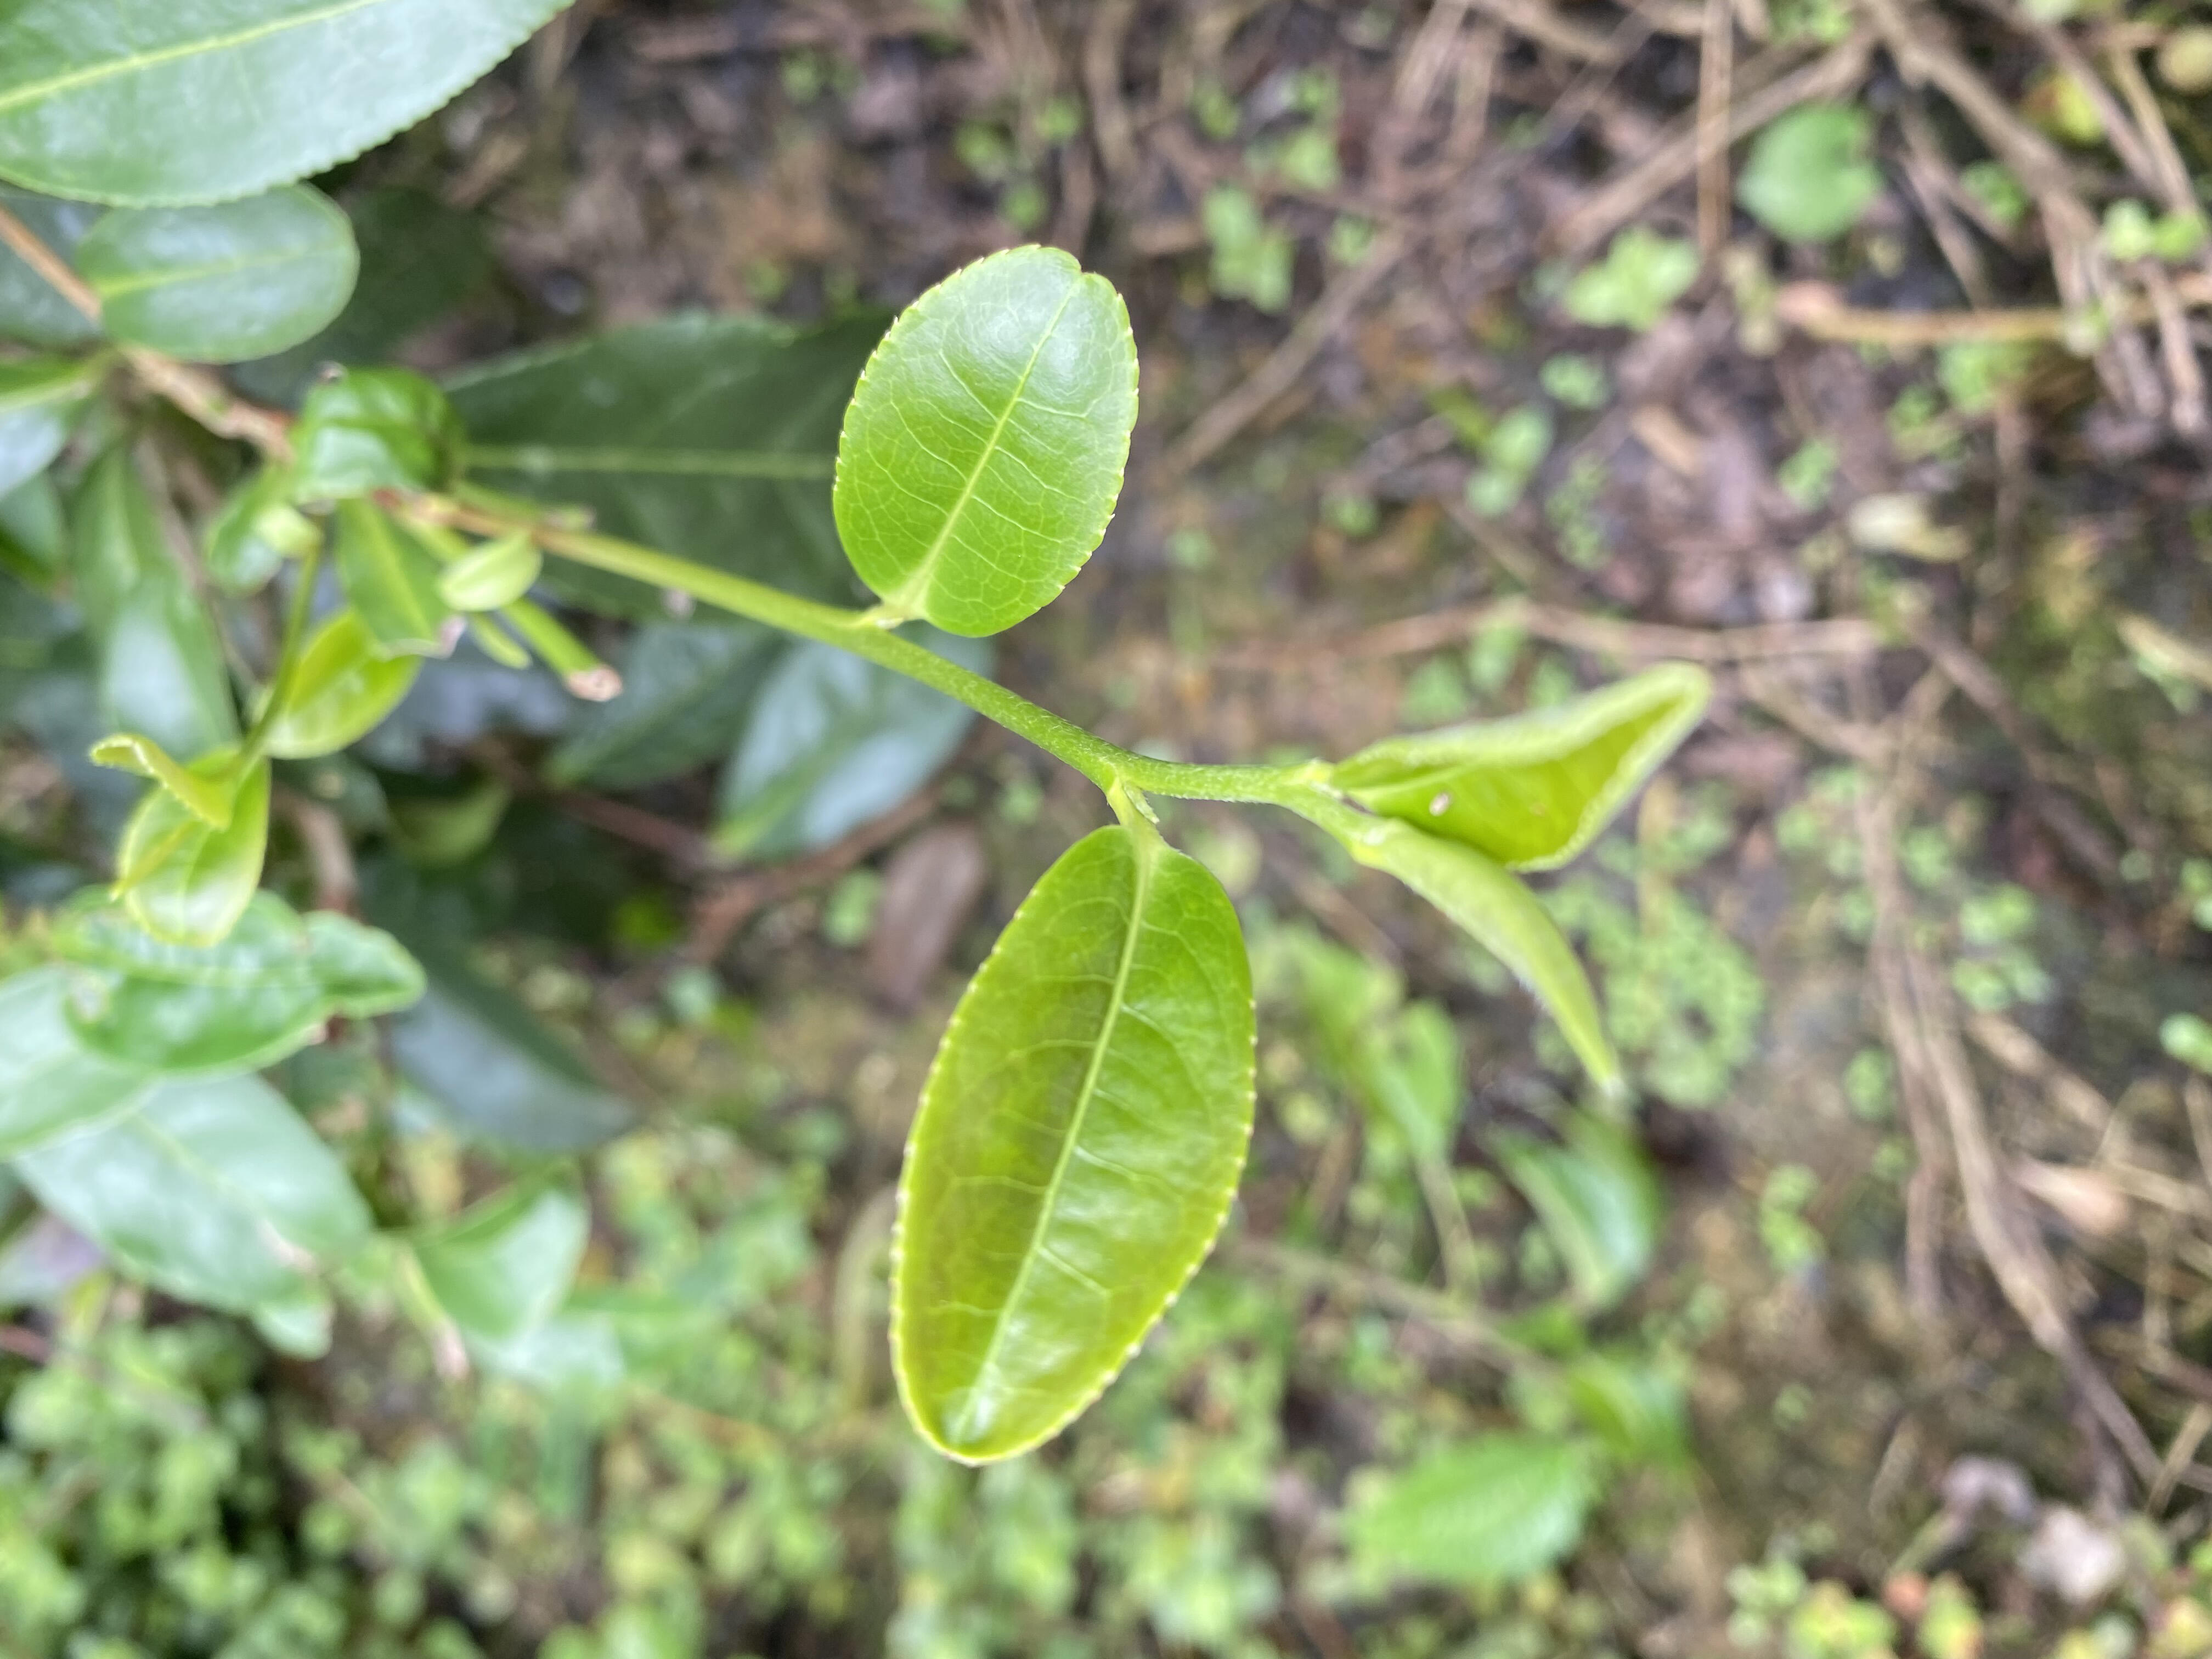healthy: (883, 823, 1261, 1469), (826, 240, 1143, 647)
tanju_low: (1331, 660, 1710, 873)
